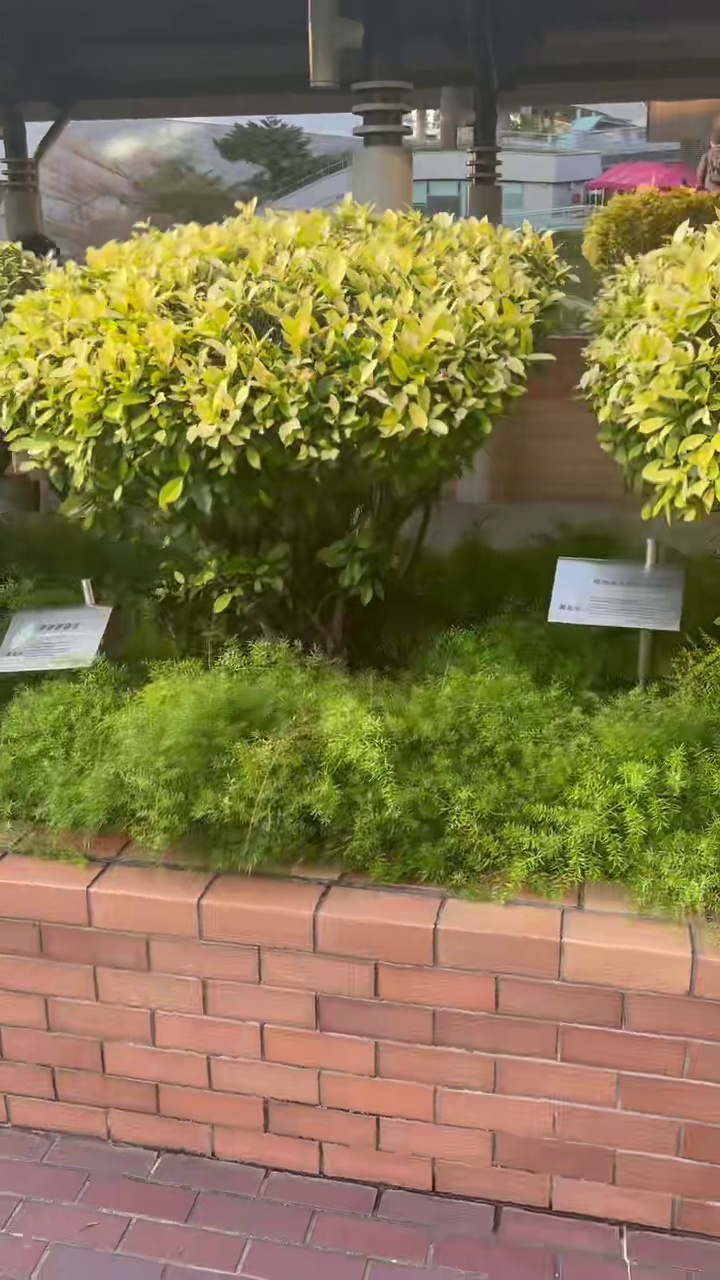Golden-leaves Fig: (0, 201, 566, 652)
